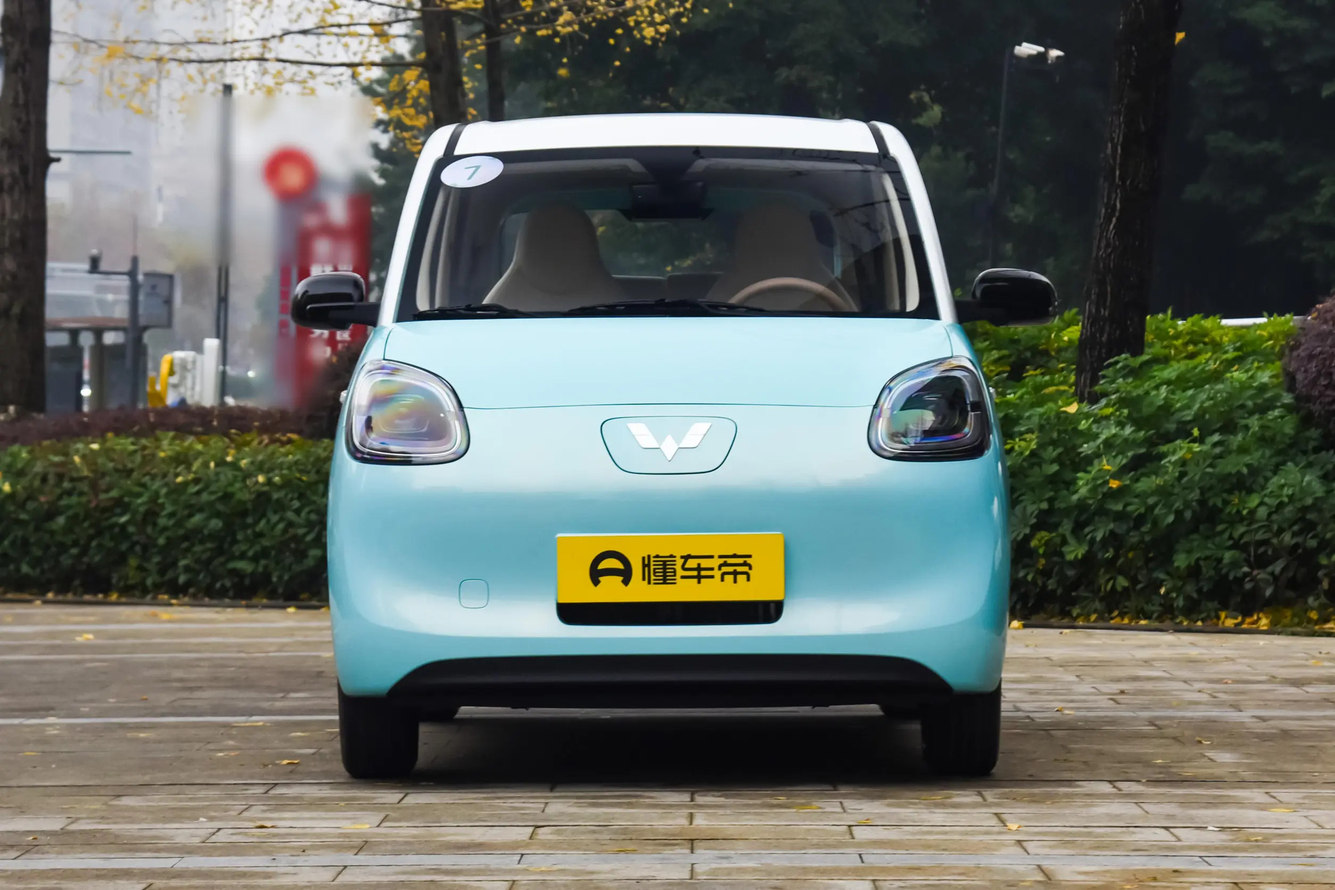SGMW: (627, 423, 711, 461)
